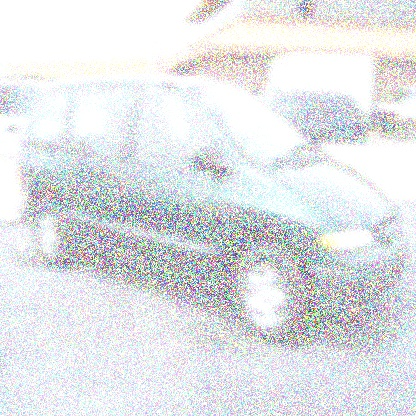Vehicle: (15, 70, 410, 342)
